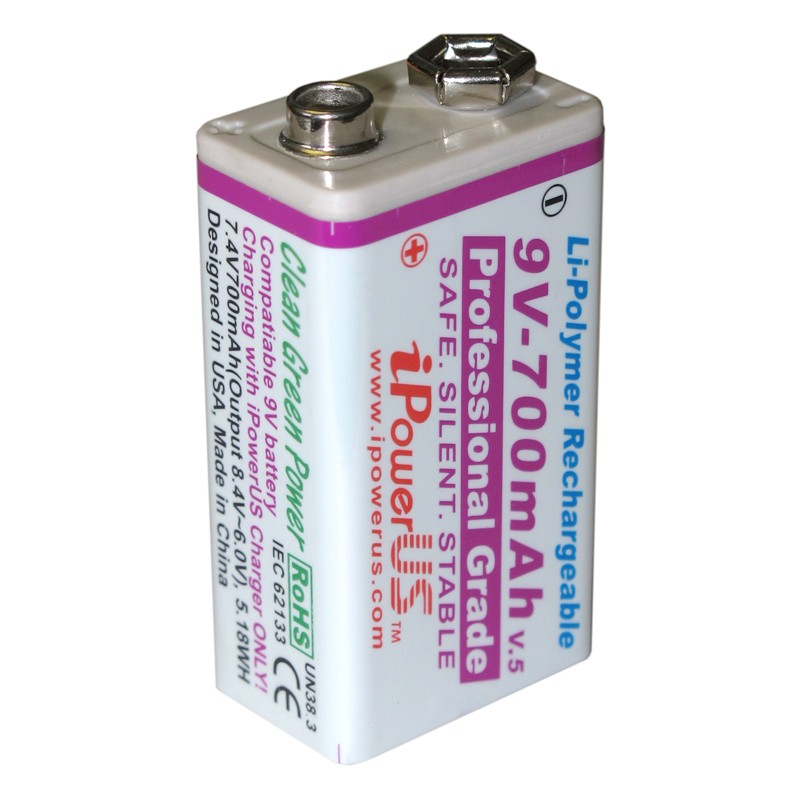9V: (177, 27, 658, 770)
